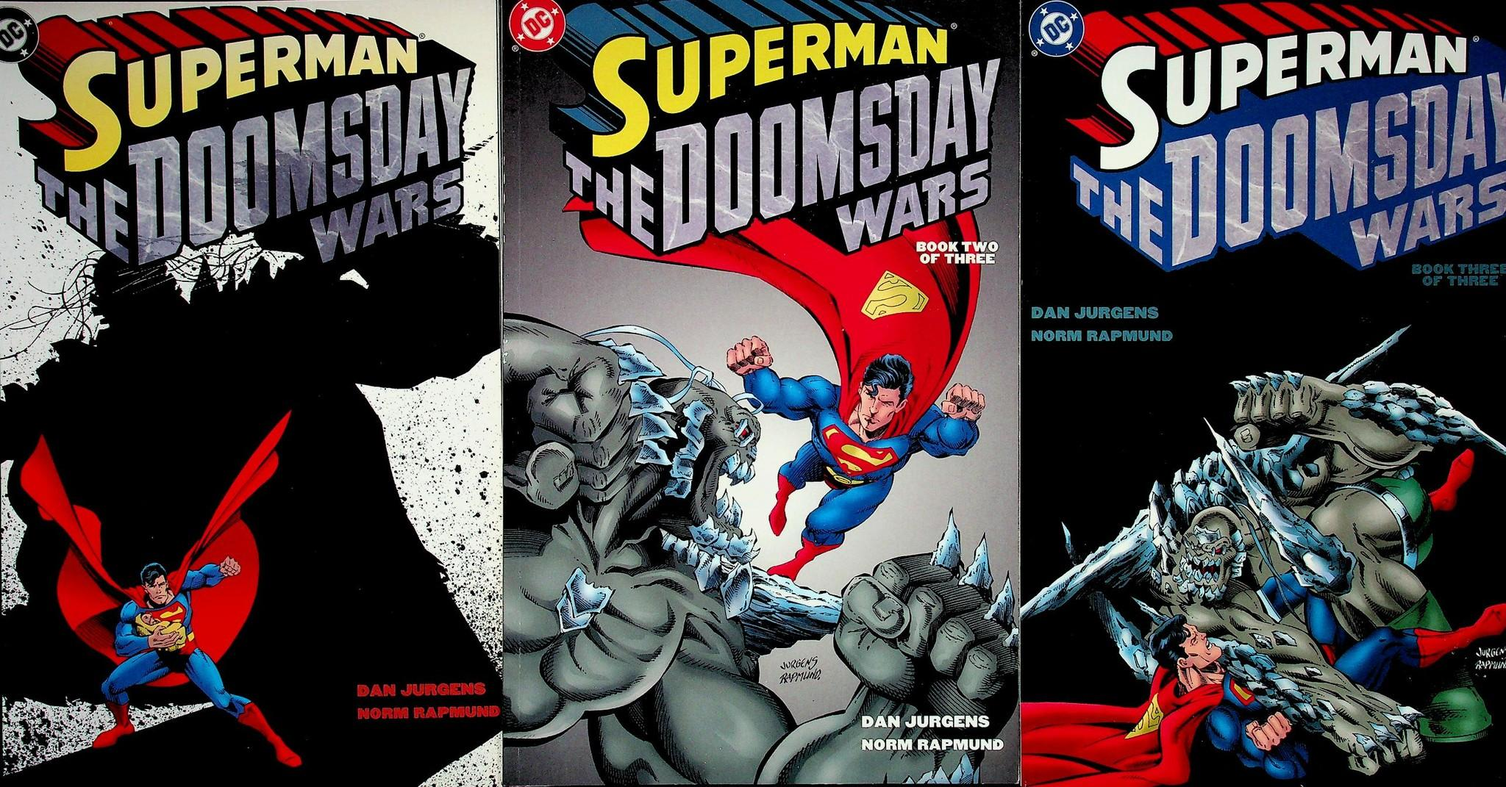comic: (504, 0, 1018, 783), (0, 2, 503, 786), (1021, 1, 1505, 784)
